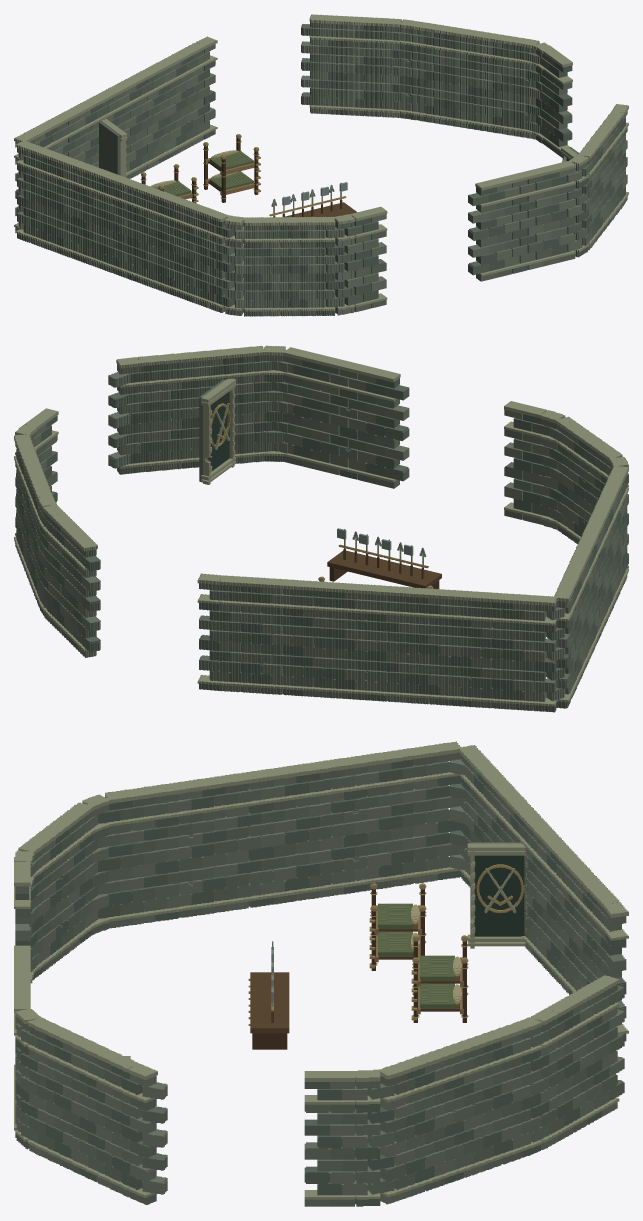
3 renders of one model, top to bottom at view 1: azimuth 30°, elevation 25°; view 2: azimuth 150°, elevation 25°; view 3: azimuth 270°, elevation 25°, orthographic. The views are drawn at different scales.
Parts seen in each view (by area): view 1: CarvedMasonry_-2_1_00, CarvedMasonry_1_-2_00, CarvedMasonry_2_-1_00, CarvedMasonry_-3_0_00, CarvedMasonry_-3_-1_00, CarvedMasonry_1_2_00, CarvedMasonry_-1_2_00, CarvedMasonry_-1_-2_00, CarvedMasonry_2_-2_00, CarvedMasonry_-2_-2_00, CarvedMasonry_0_2_00, CarvedMasonry_2_1_00 (+11 smaller); view 2: CarvedMasonry_-2_-2_00, CarvedMasonry_2_1_00, CarvedMasonry_-3_-2_00, CarvedMasonry_1_2_00, CarvedMasonry_-1_-2_00, CarvedMasonry_-1_2_00, CarvedMasonry_0_2_00, CarvedMasonry_1_-2_00, CarvedMasonry_-1_-3_00, CarvedMasonry_-3_-1_00, CarvedMasonry_-2_1_00, CarvedMasonry_-3_0_00 (+9 smaller); view 3: CarvedMasonry_2_-1_00, CarvedMasonry_-3_0_00, CarvedMasonry_-3_-1_00, CarvedMasonry_2_1_00, CarvedMasonry_-2_1_00, CarvedMasonry_1_-2_00, CarvedMasonry_2_-2_00, CarvedMasonry_-2_-2_00, Heraldry_04_01, CarvedMasonry_-1_-2_00, CarvedMasonry_-3_1_00, CarvedMasonry_-3_-2_00 (+10 smaller).
Boxes of the visible parts, <box> form: CarvedMasonry_-2_1_00: <box>193,205,316,316</box>; CarvedMasonry_1_-2_00: <box>319,15,426,120</box>; CarvedMasonry_2_-1_00: <box>460,30,567,151</box>; CarvedMasonry_-3_0_00: <box>92,170,187,298</box>; CarvedMasonry_-3_-1_00: <box>15,141,105,268</box>; CarvedMasonry_1_2_00: <box>507,154,591,273</box>; CarvedMasonry_-1_2_00: <box>326,206,387,315</box>; CarvedMasonry_-1_-2_00: <box>139,48,193,169</box>; CarvedMasonry_2_-2_00: <box>416,21,471,128</box>; CarvedMasonry_-2_-2_00: <box>71,72,148,178</box>; CarvedMasonry_0_2_00: <box>468,176,519,281</box>; CarvedMasonry_2_1_00: <box>583,104,628,242</box>; CarvedMasonry_-2_-2_00: <box>324,582,460,705</box>; CarvedMasonry_2_1_00: <box>108,347,253,474</box>; CarvedMasonry_-3_-2_00: <box>449,590,556,712</box>; CarvedMasonry_1_2_00: <box>253,345,362,479</box>; CarvedMasonry_-1_-2_00: <box>240,576,335,697</box>; CarvedMasonry_-1_2_00: <box>504,401,565,529</box>; CarvedMasonry_0_2_00: <box>349,365,409,488</box>; CarvedMasonry_1_-2_00: <box>37,496,89,649</box>; CarvedMasonry_-1_-3_00: <box>197,573,251,692</box>; CarvedMasonry_-3_-1_00: <box>546,545,592,708</box>; CarvedMasonry_-2_1_00: <box>566,424,628,594</box>; CarvedMasonry_-3_0_00: <box>577,492,616,654</box>; CarvedMasonry_2_-1_00: <box>317,1043,473,1206</box>; CarvedMasonry_-3_0_00: <box>174,762,331,917</box>; CarvedMasonry_-3_-1_00: <box>316,741,465,897</box>; CarvedMasonry_2_1_00: <box>37,1025,167,1204</box>; CarvedMasonry_-2_1_00: <box>30,786,156,971</box>; CarvedMasonry_1_-2_00: <box>510,983,609,1157</box>; CarvedMasonry_2_-2_00: <box>455,1023,522,1177</box>; CarvedMasonry_-2_-2_00: <box>500,794,574,983</box>; Heraldry_04_01: <box>467,842,527,948</box>; CarvedMasonry_-1_-2_00: <box>556,853,610,994</box>; CarvedMasonry_-3_1_00: <box>143,782,191,921</box>; CarvedMasonry_-3_-2_00: <box>458,745,519,887</box>.
Bounding box in the file's own units: 34.2 × 6.15 × 26.4.
